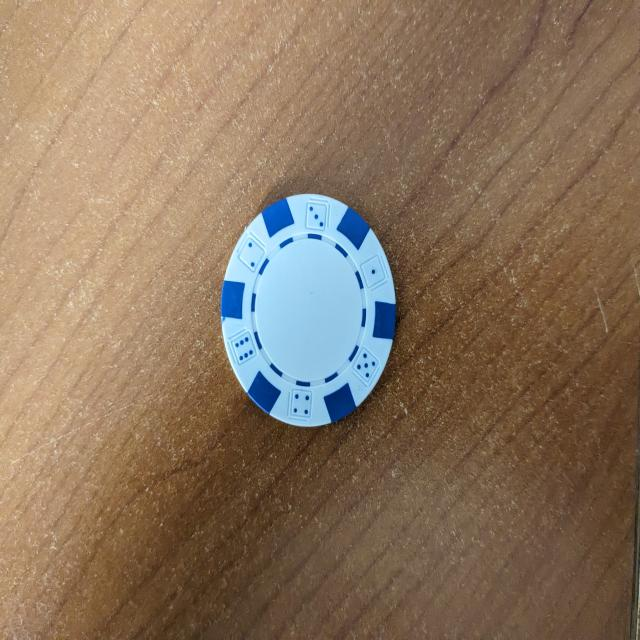white chip: (217, 193, 398, 431)
